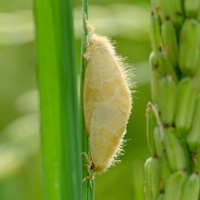insect: (83, 23, 131, 199)
